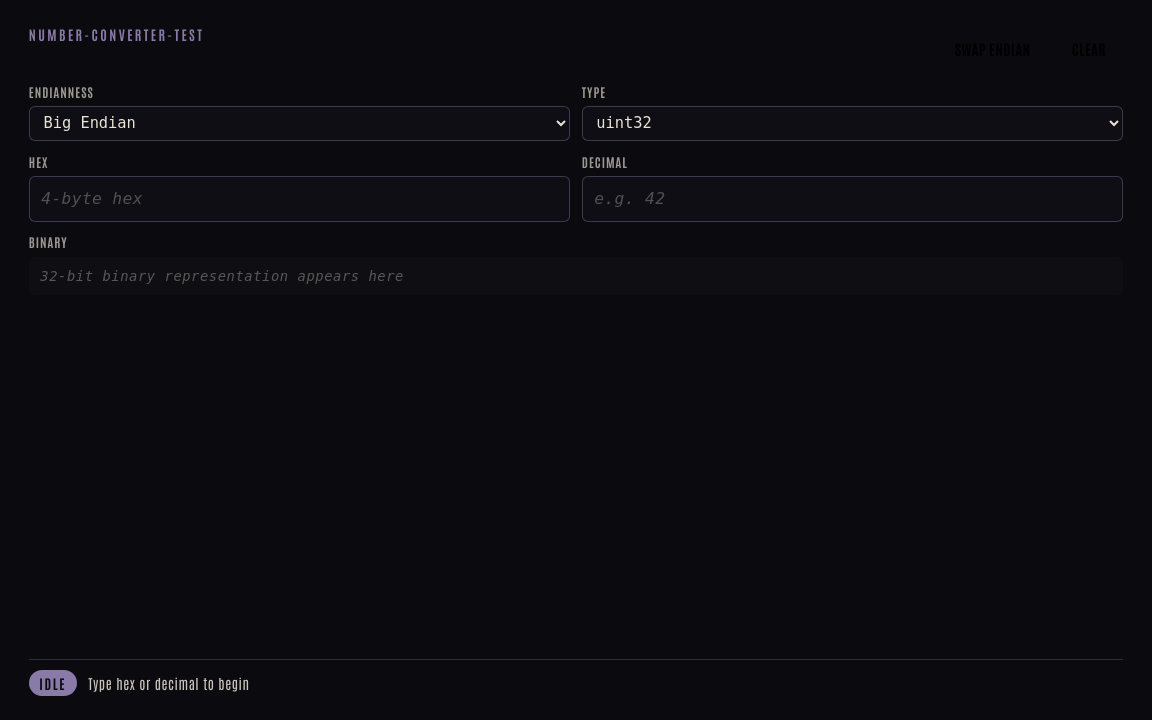
Test: NumberConverter › endianness flip re-interprets hex while keeping the sticky side intact
Type "12345678" into the field named "Hex value input" at (300, 199), box [29,176,570,222]
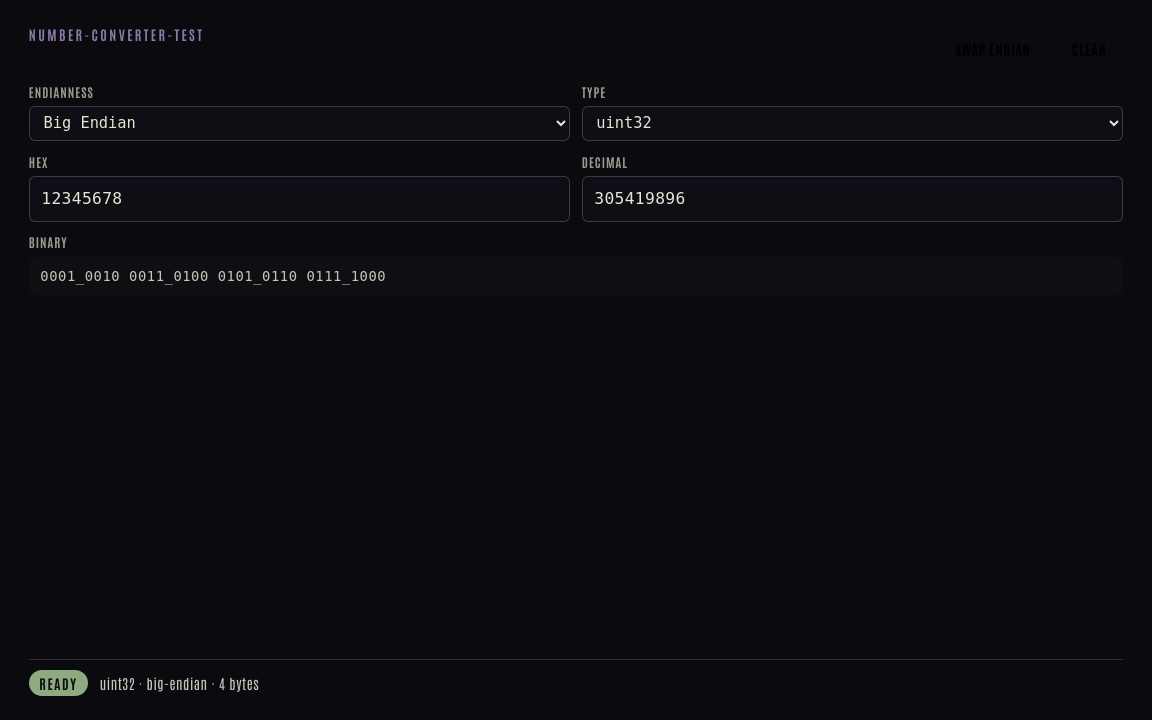
Expected: the field named "Decimal value input" holds "305419896", [582,176,1123,222]
Select "Little Endian" in the dropdown named "Endianness selector" at (300, 123), box [29,106,570,141]
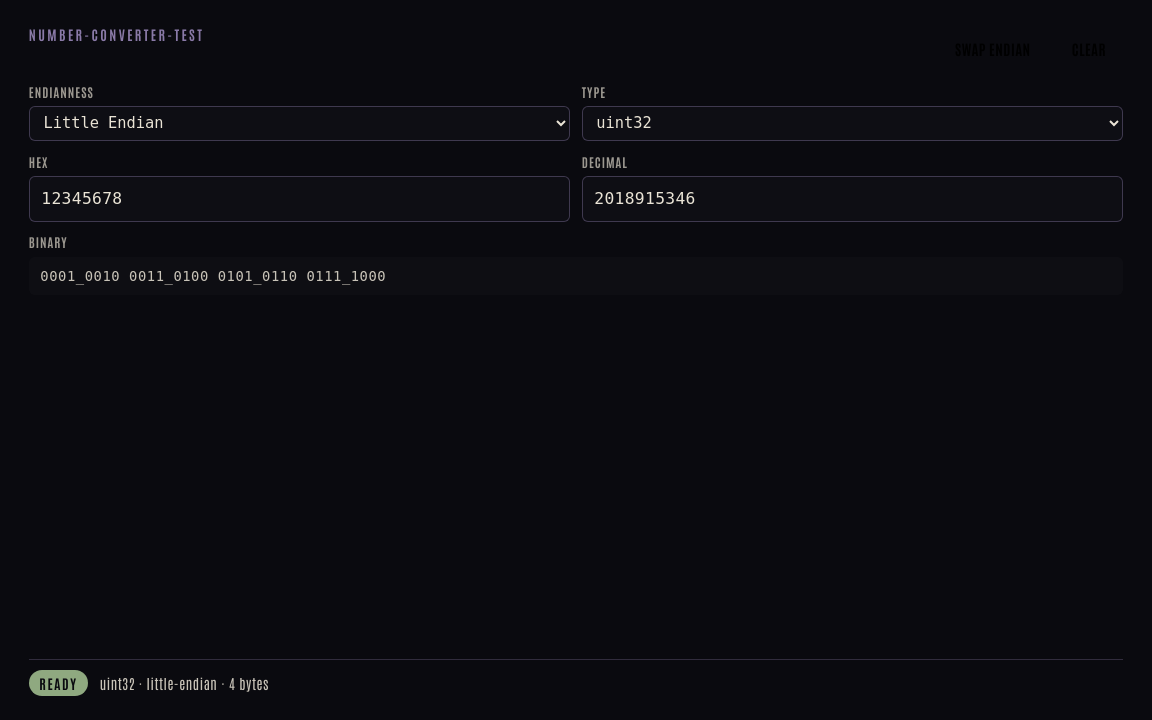
Expected: the field named "Decimal value input" holds "2018915346", [582,176,1123,222]
